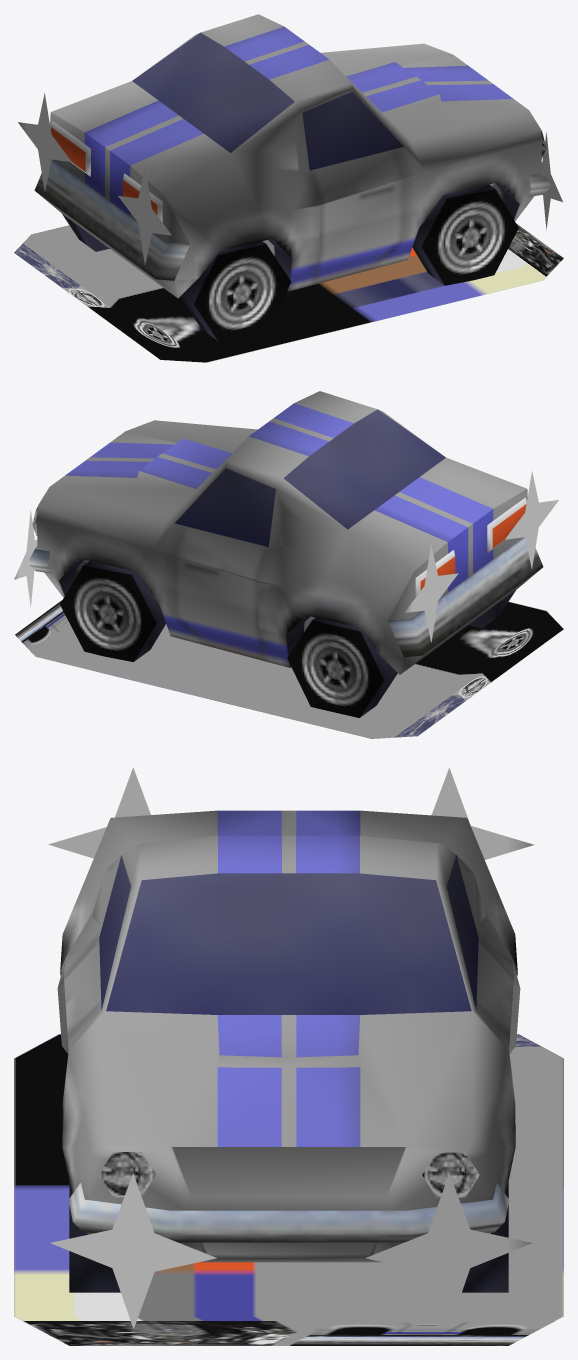
The model's file is RUN3SYSC.ICN.obj.
3 views of the same model, one above another, from view 1: azimuth 30°, elevation 25°; view 2: azimuth 150°, elevation 25°; view 3: azimuth 270°, elevation 25° (orthographic). The views are drawn at different scales.
Size of the model in its own units: 4.84 by 2.32 by 3.5.
1 material, 1 textured.
